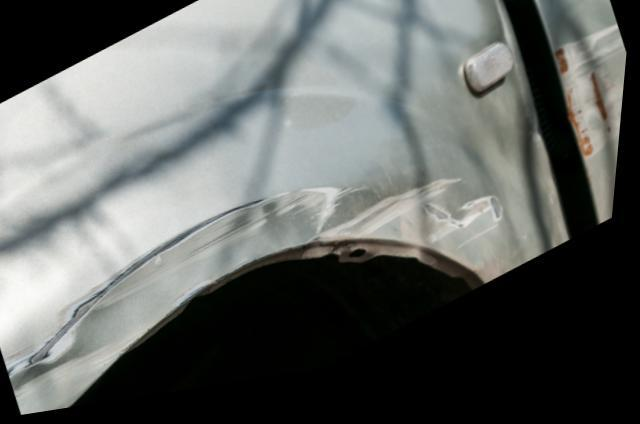scratch: (7, 188, 522, 417), (557, 41, 629, 182)
